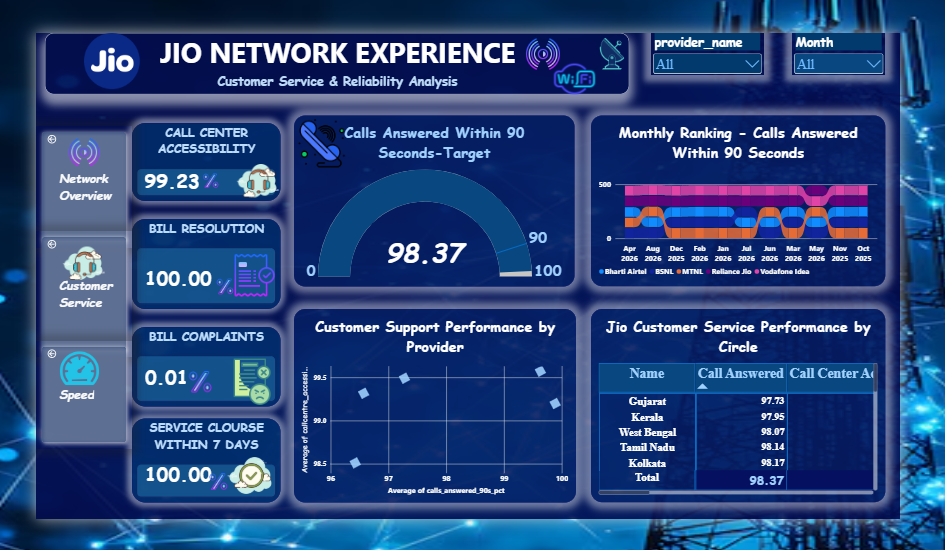

What the dashboard file says about the page in this screenshot:
{"tool":"powerbi","page":{"name":"Customer Service & Reliability Analysisy","canvas":[1920,1080],"ordinal":1},"visuals":[{"type":"textbox","title":"JIO NETWORK EXPERIENCE","box":[19.8,0,1298.3,136.1],"z":0},{"type":"cardVisual","title":"CALL CENTER ACCESSIBILITY","fields":{"Data":["Avg(project fact_customer.callcentre_accessibility_pct)"]},"box":[213.3,200,330,173.3],"z":1000},{"type":"gauge","title":"Calls Answered Within 90 Seconds-Target","fields":{"MaxValue":["DimDate.Gauge Max"],"MinValue":["DimDate.Gauge Min"],"TargetValue":["DimDate.Calls Answered Target"],"Y":["Avg(project fact_customer.calls_answered_90s_pct)"]},"box":[573.3,183.3,623.3,380],"z":2000},{"type":"cardVisual","title":"BILL RESOLUTION","fields":{"Data":["Avg(project fact_customer.billing_resolution_4wk_pct)"]},"box":[213.3,413.3,330,200],"z":3000},{"type":"cardVisual","title":"BILL COMPLAINTS","fields":{"Data":["Avg(project fact_customer.billing_complaints_pct)"]},"box":[213.3,653.3,330,176.7],"z":4000},{"type":"cardVisual","title":"SERVICE CLOURSE WITHIN 7 DAYS","fields":{"Data":["Avg(project fact_customer.service_closure_7d_pct)"]},"box":[213.3,856.7,330,186.7],"z":5000},{"type":"slicer","fields":{"Values":["project fact_customer.provider_name"]},"box":[1367.1,0,250.5,93.1],"z":6000},{"type":"scatterChart","title":"Customer Support Performance by Provider","fields":{"Category":["project fact_customer.provider_name"],"X":["Avg(project fact_customer.calls_answered_90s_pct)"],"Y":["Avg(project fact_customer.callcentre_accessibility_pct)"]},"box":[573.3,613.3,626.7,430],"z":7000},{"type":"ribbonChart","title":"Monthly Ranking - Calls Answered Within 90 Seconds","fields":{"Category":["project fact_customer.report_month"],"Series":["project fact_customer.provider_name"],"Y":["Avg(project fact_customer.calls_answered_90s_pct)"]},"box":[1233.5,183.7,653.7,379.4],"z":8000},{"type":"pivotTable","title":"Jio Customer Service Performance by Circle","fields":{"Rows":["project fact_customer.lsa_name"],"Values":["Avg(project fact_customer.calls_answered_90s_pct)","Avg(project fact_customer.callcentre_accessibility_pct)","Avg(project fact_customer.billing_complaints_pct)","Avg(project fact_customer.service_closure_7d_pct)","Avg(project fact_customer.billing_adjustment_1wk_pct)","Avg(project fact_customer.billing_resolution_4wk_pct)","Min(project fact_customer.not_applicable_kpis)"]},"box":[1233.5,613.2,653.7,429.5],"z":9000},{"type":"image","box":[99,0,137.3,124.5],"z":10000},{"type":"image","box":[1143.3,40,106.7,123.3],"z":11000},{"type":"image","box":[1056.7,0,140,93.3],"z":12000},{"type":"image","box":[1233.3,6.7,93.3,80],"z":13000},{"type":"slicer","fields":{"Values":["DimDate.Date.Variation.Date Hierarchy.Month"]},"box":[1679.7,0,207.6,93.1],"z":14000},{"type":"image","box":[430,275,123.3,103.3],"z":15000},{"type":"image","box":[573.3,183.3,123.3,123.3],"z":16000},{"type":"image","box":[426.7,476.7,116.7,123.3],"z":17000},{"type":"image","box":[420,720,120,110],"z":18000},{"type":"image","box":[420,923.3,113.3,120],"z":19000},{"type":"image","box":[350,306.7,76.7,43.3],"z":20000},{"type":"image","box":[396.7,520,46.7,86.7],"z":21000},{"type":"image","box":[333.3,720,63.3,110],"z":22000},{"type":"image","box":[380,950,50,93.3],"z":23000},{"type":"actionButton","box":[0,206.7,213.3,270],"z":24000},{"type":"actionButton","box":[0,440,213.3,280],"z":25000},{"type":"actionButton","box":[0,683.3,213.3,240],"z":26000},{"type":"image","box":[36.7,223.3,140,83.3],"z":27000},{"type":"image","box":[43.3,460,123.3,103.3],"z":28000},{"type":"image","box":[26.7,696.7,140,100],"z":29000}]}

Visuals, with their boxes on the page's 1920x1080 design canvas (x1, y1, x2, y2). These are canvas units, not pixel positions in the 945x550 screenshot, which may show the page scaled, cropped or inside an application window:
"JIO NETWORK EXPERIENCE" textbox: region(20, 0, 1318, 136)
"CALL CENTER ACCESSIBILITY" cardVisual: region(213, 200, 543, 373)
"Calls Answered Within 90 Seconds-Target" gauge: region(573, 183, 1197, 563)
"BILL RESOLUTION" cardVisual: region(213, 413, 543, 613)
"BILL COMPLAINTS" cardVisual: region(213, 653, 543, 830)
"SERVICE CLOURSE WITHIN 7 DAYS" cardVisual: region(213, 857, 543, 1043)
slicer - project fact_customer.provider_name: region(1367, 0, 1618, 93)
"Customer Support Performance by Provider" scatterChart: region(573, 613, 1200, 1043)
"Monthly Ranking - Calls Answered Within 90 Seconds" ribbonChart: region(1234, 184, 1887, 563)
"Jio Customer Service Performance by Circle" pivotTable: region(1234, 613, 1887, 1043)
image: region(99, 0, 236, 124)
image: region(1143, 40, 1250, 163)
image: region(1057, 0, 1197, 93)
image: region(1233, 7, 1327, 87)
slicer - DimDate.Date.Variation.Date Hierarchy.Month: region(1680, 0, 1887, 93)
image: region(430, 275, 553, 378)
image: region(573, 183, 697, 307)
image: region(427, 477, 543, 600)
image: region(420, 720, 540, 830)
image: region(420, 923, 533, 1043)
image: region(350, 307, 427, 350)
image: region(397, 520, 443, 607)
image: region(333, 720, 397, 830)
image: region(380, 950, 430, 1043)
actionButton: region(0, 207, 213, 477)
actionButton: region(0, 440, 213, 720)
actionButton: region(0, 683, 213, 923)
image: region(37, 223, 177, 307)
image: region(43, 460, 167, 563)
image: region(27, 697, 167, 797)
